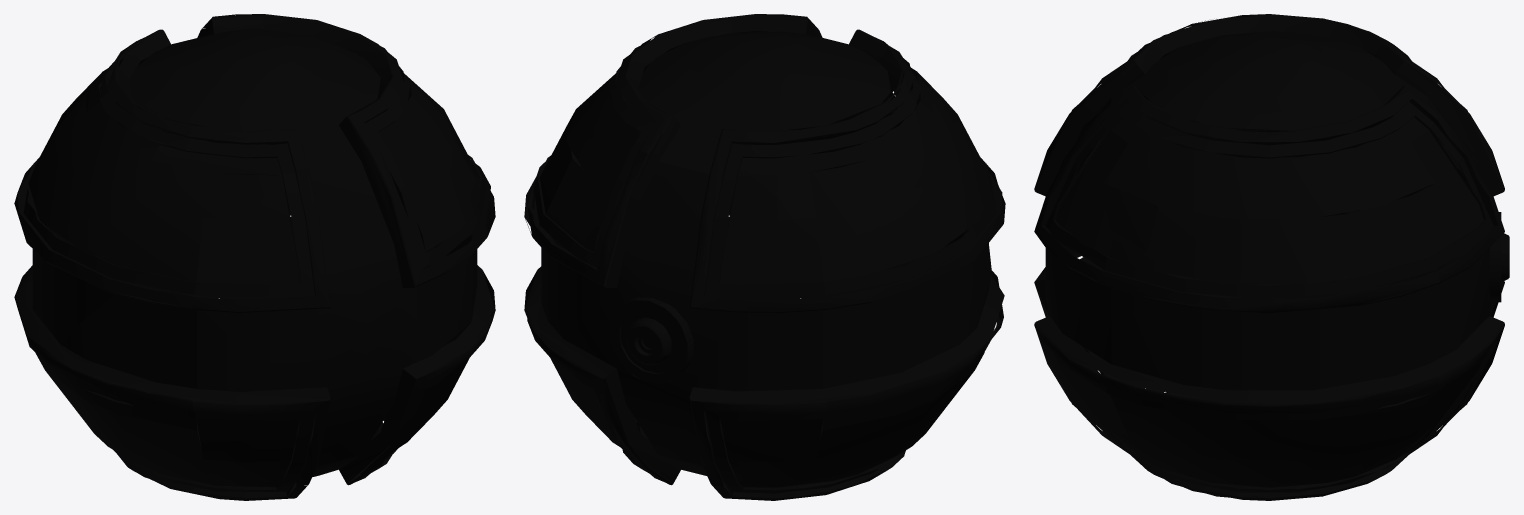
The model's file is bomb.glb.
3 views of the same model, side by side, from view 1: azimuth 30°, elevation 25°; view 2: azimuth 150°, elevation 25°; view 3: azimuth 270°, elevation 25° (orthographic).
Parts seen in each view (by area): view 1: defaultMaterial; view 2: defaultMaterial; view 3: defaultMaterial.
Boxes of the visible parts, x1,y1,x2,y2 form: defaultMaterial: (14, 14, 495, 500); defaultMaterial: (524, 14, 1005, 500); defaultMaterial: (1034, 14, 1509, 500).
Size of the model in its own units: 2.41 by 2.24 by 2.38.
Materials: 1 (1 with a texture image).
